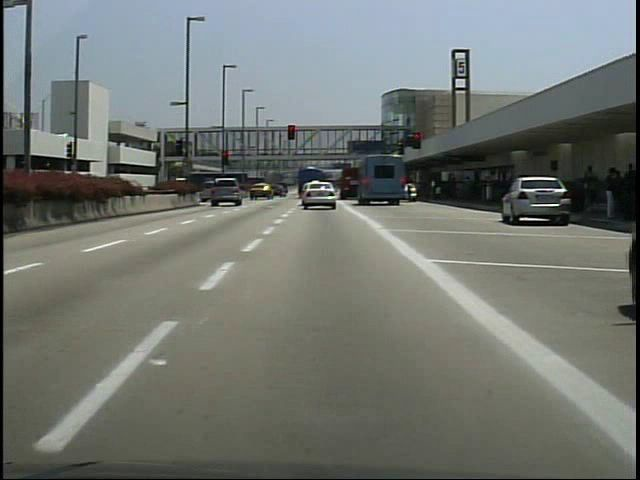person: (582, 165, 598, 215)
